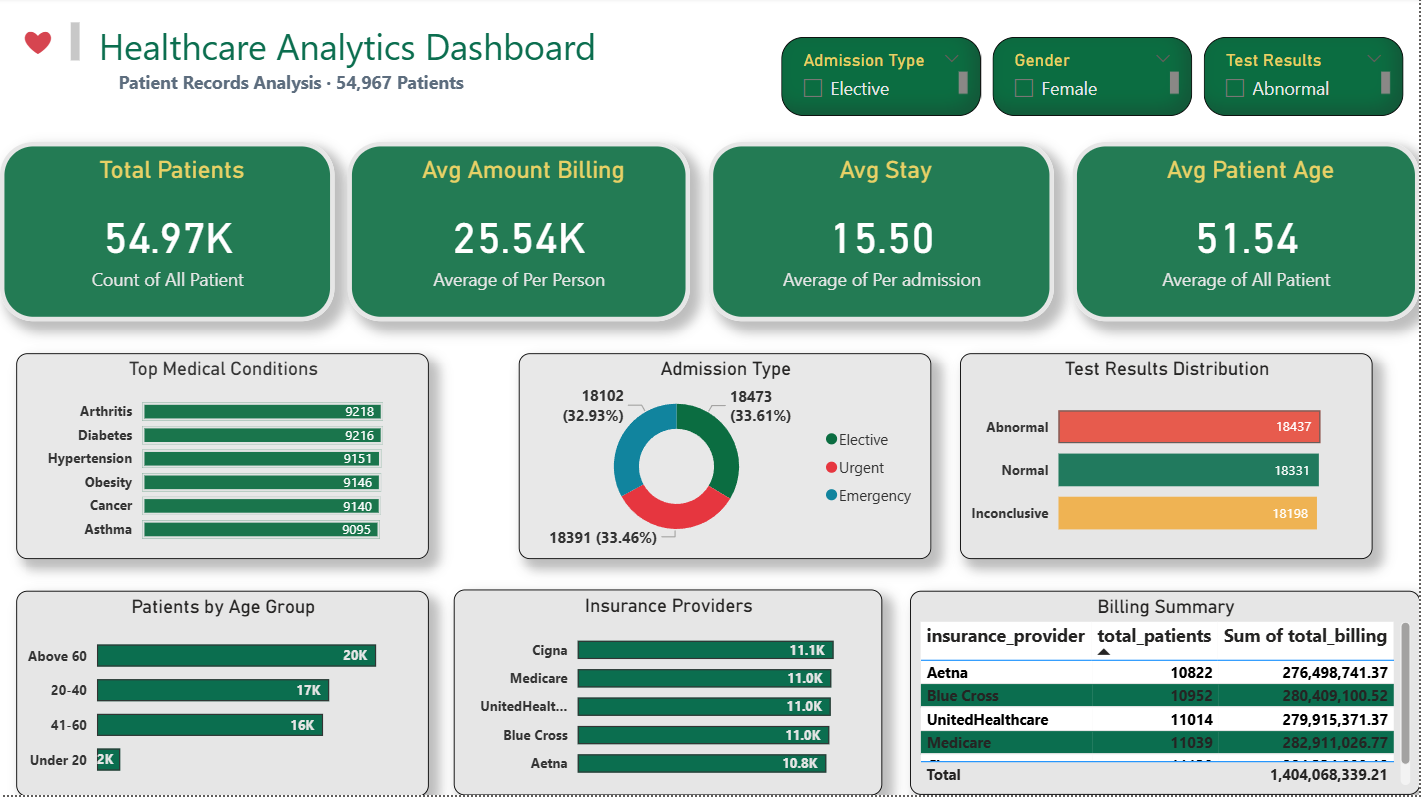

What the dashboard file says about the page in this screenshot:
{"tool":"powerbi","page":{"name":"Page 1","canvas":[1280,720],"ordinal":0},"visuals":[{"type":"card","title":"Total Patients","fields":{"Values":["CountNonNull(healthcare_dataset.Age)"]},"box":[0,130.4,301.9,161.9],"z":0},{"type":"card","title":"Avg Amount Billing","fields":{"Values":["Avg(healthcare_dataset.Billing Amount)"]},"box":[312.9,130.4,308.7,161.9],"z":1},{"type":"card","title":"Avg Stay","fields":{"Values":["Avg(healthcare_dataset.Length_of_Stay)"]},"box":[639.5,130.4,311.5,161.9],"z":2},{"type":"card","title":"Avg Patient Age","fields":{"Values":["Avg(healthcare_dataset.All Record)"]},"box":[967.4,130.4,312.9,161.9],"z":3},{"type":"clusteredBarChart","title":"Top Medical Conditions","fields":{"Category":["query1_conditions.medical_condition"],"Y":["Sum(query1_conditions.total_patients)"]},"box":[15.1,321.1,371.9,185.2],"z":4},{"type":"donutChart","title":"Admission Type","fields":{"Category":["query2_admission.admission_type"],"Y":["Sum(query2_admission.total_patients)"]},"box":[467.9,321.1,371.9,185.2],"z":5},{"type":"clusteredBarChart","title":"Test Results Distribution","fields":{"Category":["query5_test_results.test_results"],"Y":["Sum(query5_test_results.total_patients)"]},"box":[865.9,321.1,371.9,185.2],"z":6},{"type":"clusteredBarChart","title":"Patients by Age Group","fields":{"Category":["query3_age_group.age_group"],"Y":["Sum(query3_age_group.total_patients)"]},"box":[15.1,535.2,371.9,185.2],"z":7},{"type":"clusteredBarChart","title":"Insurance Providers","fields":{"Category":["query4_insurance.insurance_provider"],"Y":["Sum(query4_insurance.total_patients)"]},"box":[408.6,534.1,386.3,185.5],"z":8},{"type":"tableEx","title":"Billing Summary","fields":{"Values":["query4_insurance.insurance_provider","query4_insurance.total_patients","query4_insurance.total_billing"]},"box":[820.1,535.5,460.2,184.1],"z":9},{"type":"slicer","fields":{"Values":["healthcare_dataset.Admission Type"]},"box":[704.3,36.3,179.9,71.1],"z":10},{"type":"slicer","fields":{"Values":["healthcare_dataset.Gender"]},"box":[895.4,36.3,179.9,71.1],"z":11},{"type":"slicer","fields":{"Values":["healthcare_dataset.Test Results"]},"box":[1085,36.3,179.9,71.1],"z":12},{"type":"textbox","box":[66.9,18.1,573.2,89.3],"z":13},{"type":"textbox","box":[15.3,18.1,61.4,44.6],"z":14}]}

Visuals, with their boxes in screenshot pixels (x1, y1, x2, y2), scaled from the page's 1280x720 canvas onto the 1422x797 screenshot:
"Total Patients" card: x1=0, y1=144, x2=335, y2=324
"Avg Amount Billing" card: x1=348, y1=144, x2=691, y2=324
"Avg Stay" card: x1=710, y1=144, x2=1057, y2=324
"Avg Patient Age" card: x1=1075, y1=144, x2=1421, y2=324
"Top Medical Conditions" clusteredBarChart: x1=17, y1=355, x2=430, y2=560
"Admission Type" donutChart: x1=520, y1=355, x2=933, y2=560
"Test Results Distribution" clusteredBarChart: x1=962, y1=355, x2=1375, y2=560
"Patients by Age Group" clusteredBarChart: x1=17, y1=592, x2=430, y2=796
"Insurance Providers" clusteredBarChart: x1=454, y1=591, x2=883, y2=796
"Billing Summary" tableEx: x1=911, y1=593, x2=1421, y2=796
slicer - healthcare_dataset.Admission Type: x1=782, y1=40, x2=982, y2=119
slicer - healthcare_dataset.Gender: x1=995, y1=40, x2=1195, y2=119
slicer - healthcare_dataset.Test Results: x1=1205, y1=40, x2=1405, y2=119
textbox: x1=74, y1=20, x2=711, y2=119
textbox: x1=17, y1=20, x2=85, y2=69
